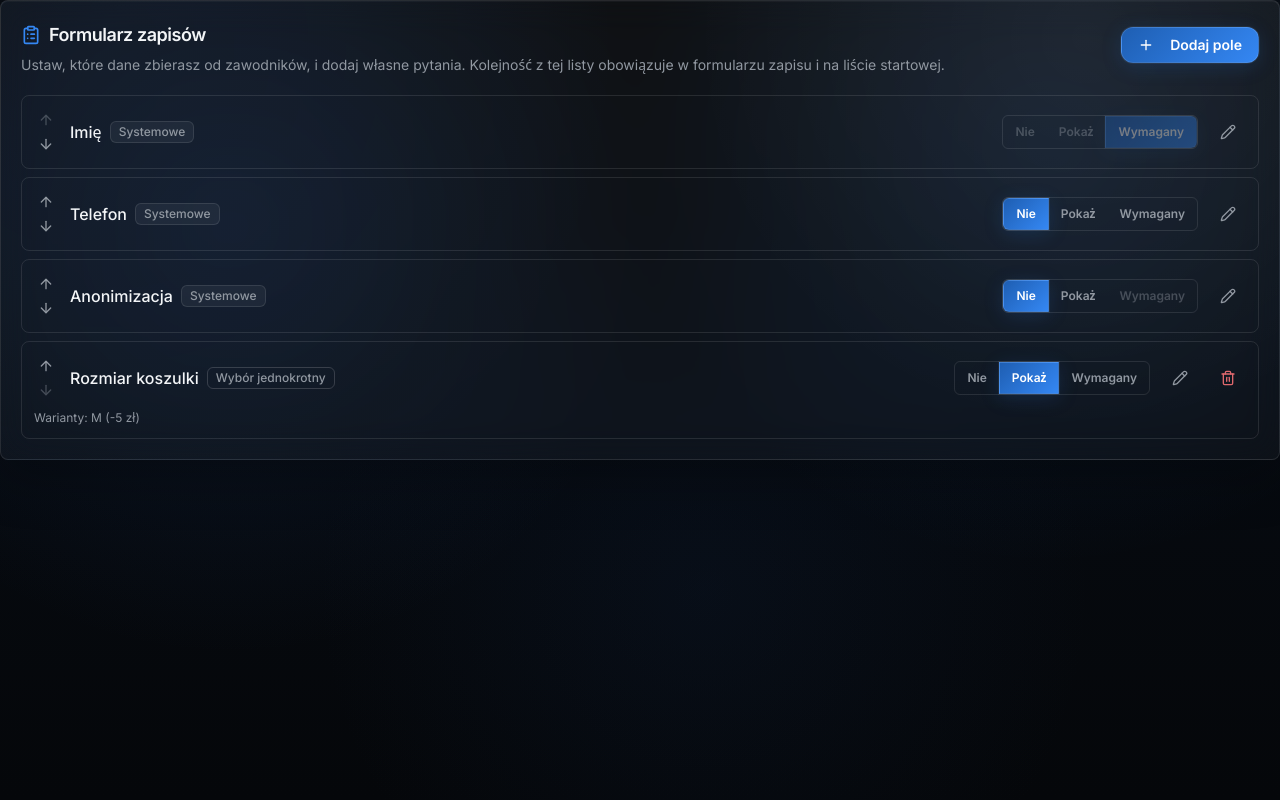
Test: FormFieldsTab › shows a 422 from the server inside the create dialog
Click the button "Dodaj pole": (1190, 45) [1121,27,1259,63]
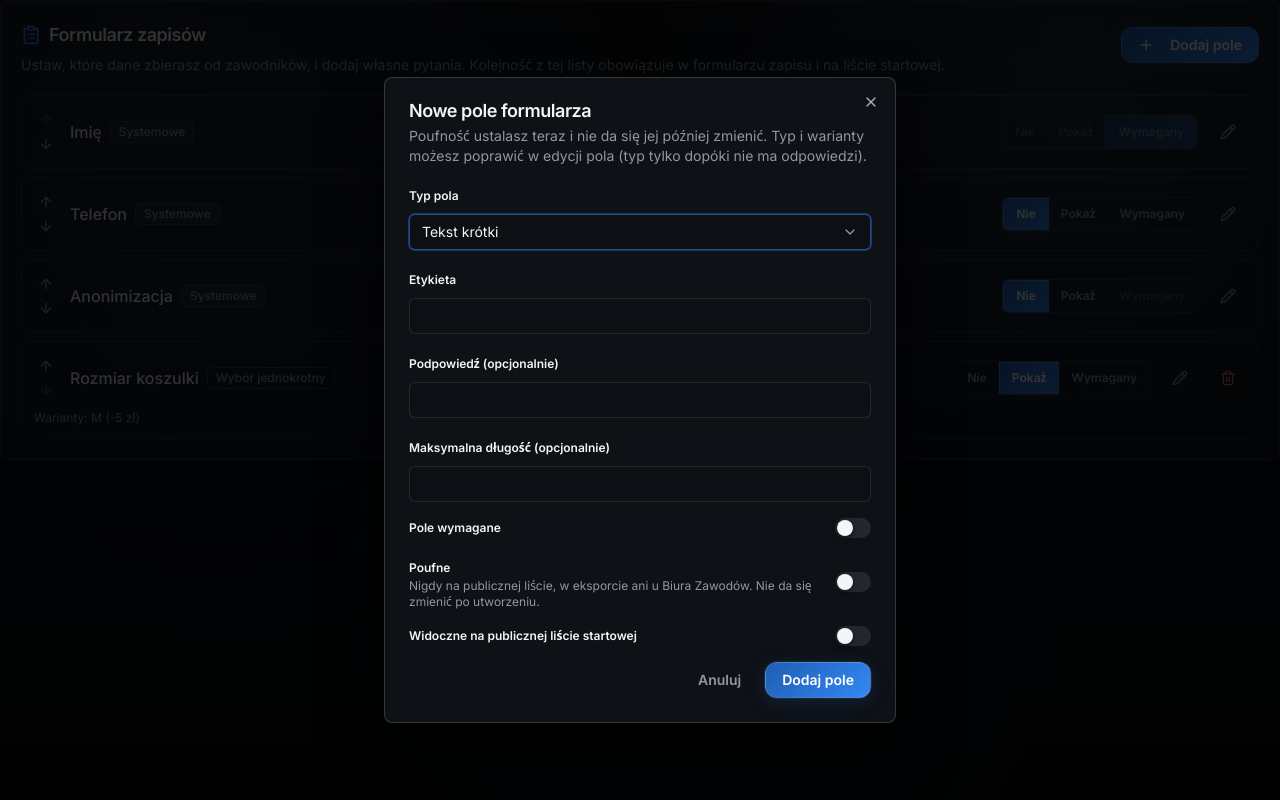
In the field labelled "Etykieta": (640, 316) [409,298,871,334], type "Cokolwiek"
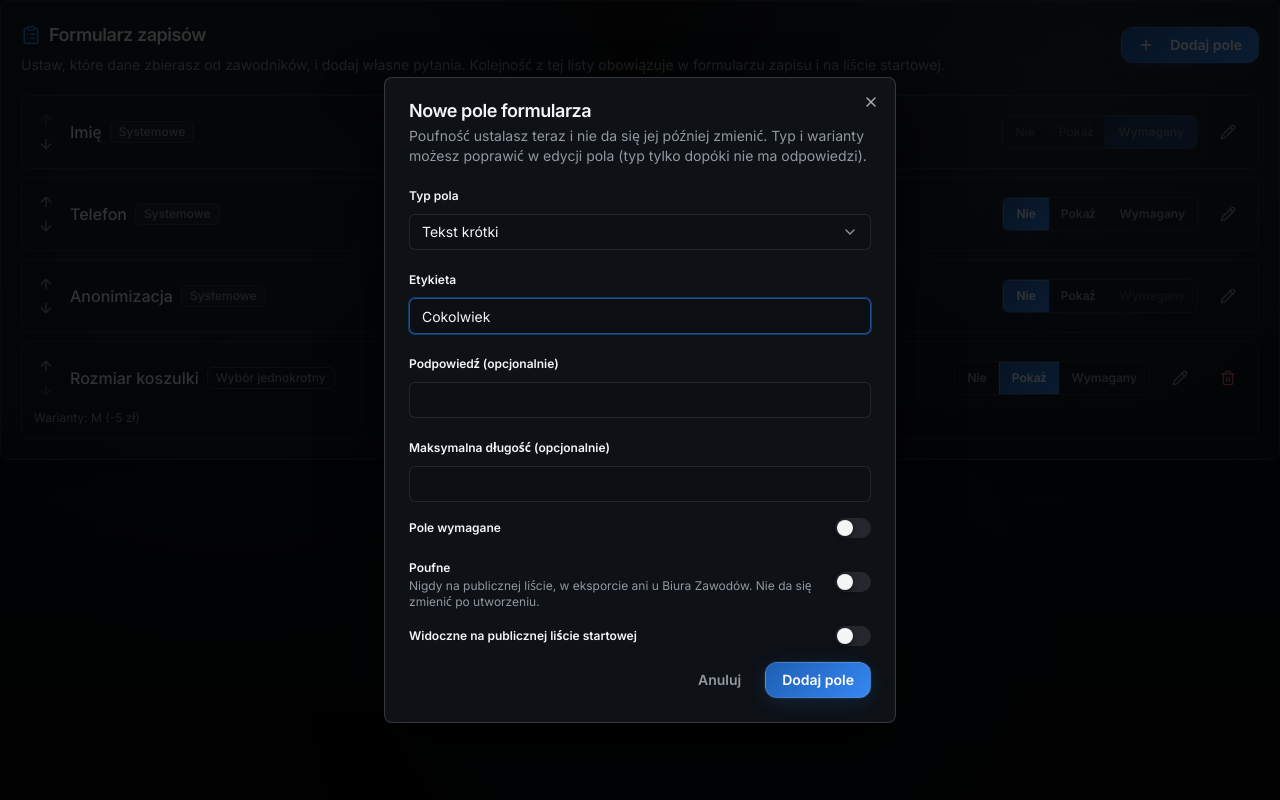
Click the button "Dodaj pole": (818, 680) [765,662,871,698]
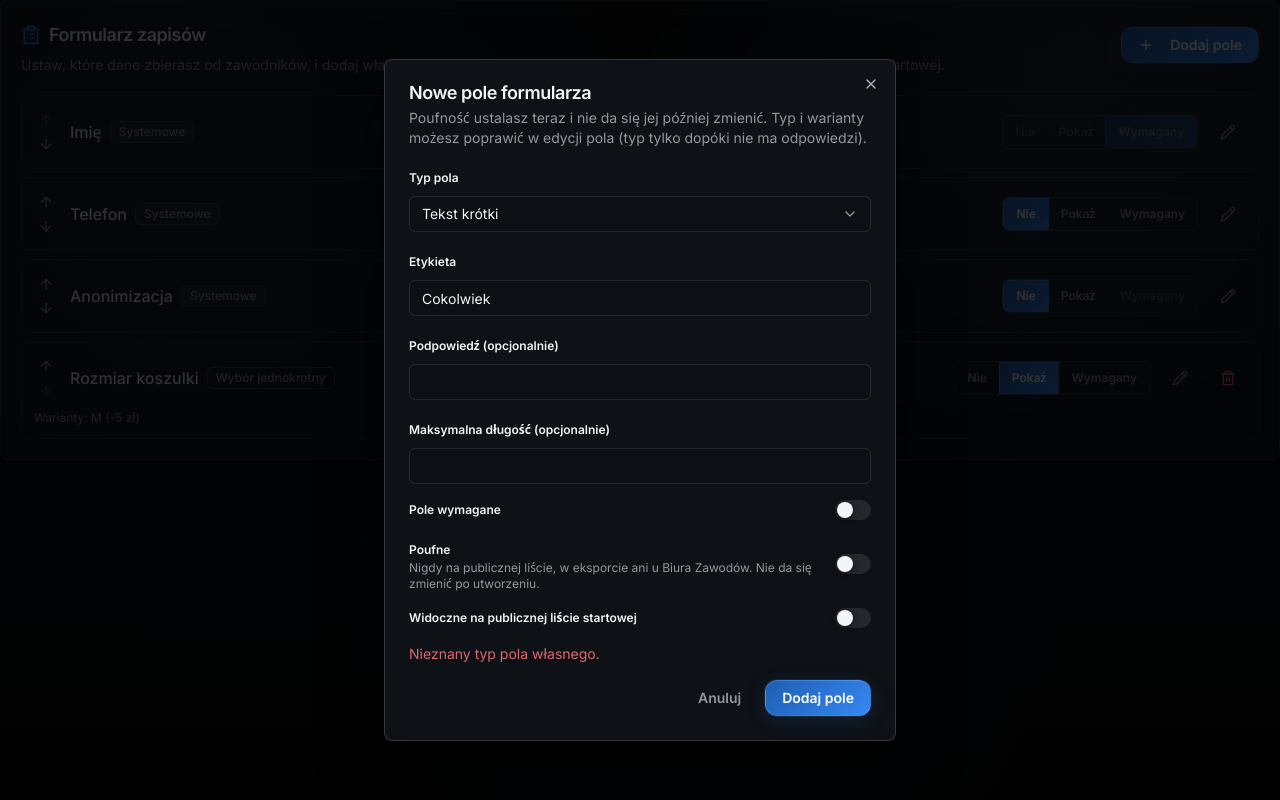
Expected: the message reads "Nieznany typ pola własnego.", [409,645,600,662]
